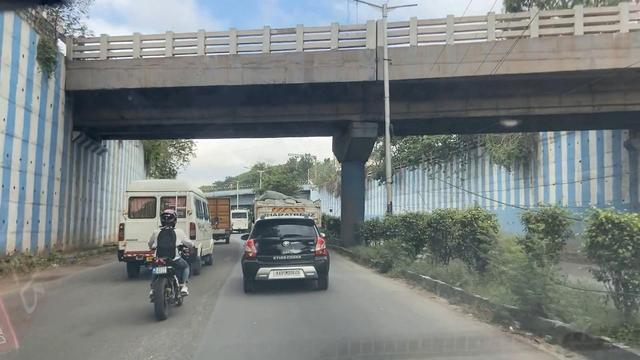HMV: (120, 183, 212, 273)
LMV: (243, 217, 327, 291), (146, 214, 188, 324)
